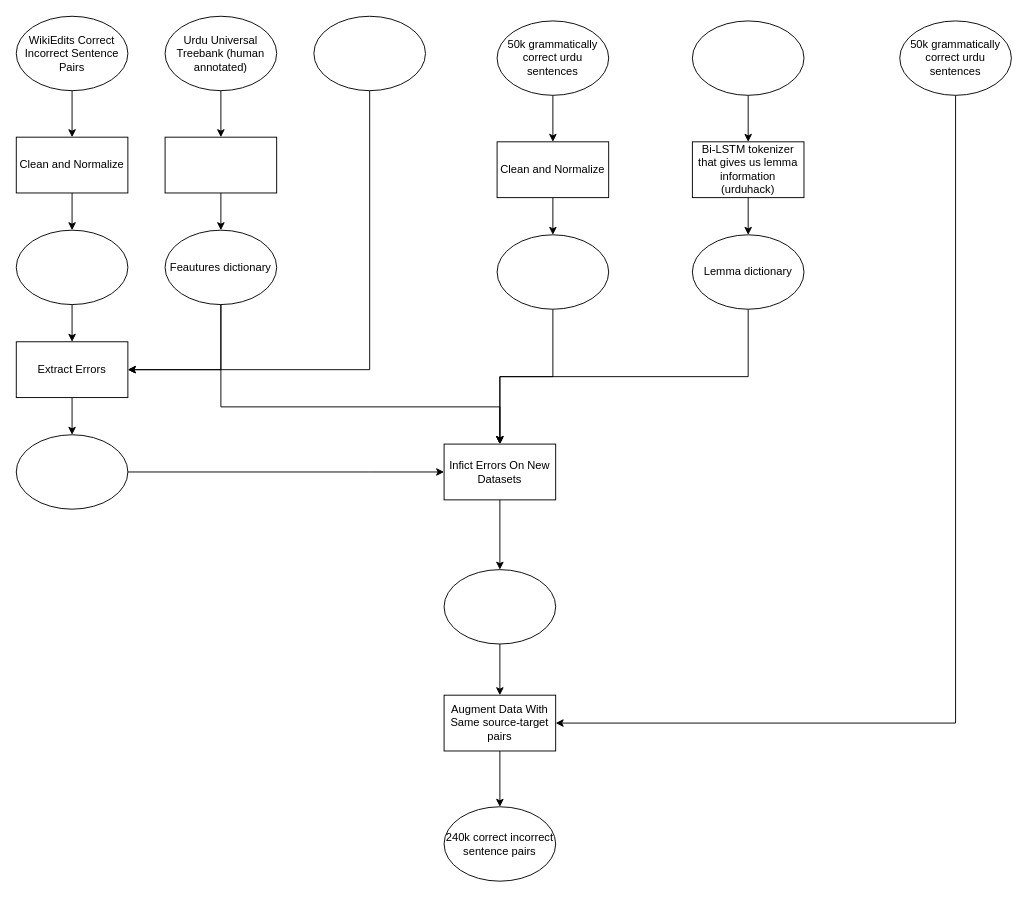
The diagram is 1028 pixels wide and 897 high, and some of its shapes have lost their labels. The box of each missing label's shape, as (x1, y1, x2, y2) in pixels:
1400 WikiEdits Correct Incorrect Sentence Pairs: (15, 229, 128, 305)
190k correct incorrect sentence pairs: (443, 569, 556, 644)
500k urdu sentences: (691, 20, 804, 95)
Cleaned 50k grammatically correct urdu sentences: (496, 234, 609, 309)
Error Types Dictionary: 800+ error occurences extracted: (15, 434, 128, 509)
Feature extractor: (164, 136, 277, 193)
Urdu Dictionary (urduhack): (313, 15, 425, 91)
